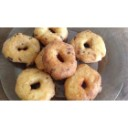vada: (64, 63, 103, 101), (16, 66, 57, 102), (42, 38, 79, 76), (1, 33, 41, 67), (70, 29, 107, 60), (34, 28, 69, 44)
